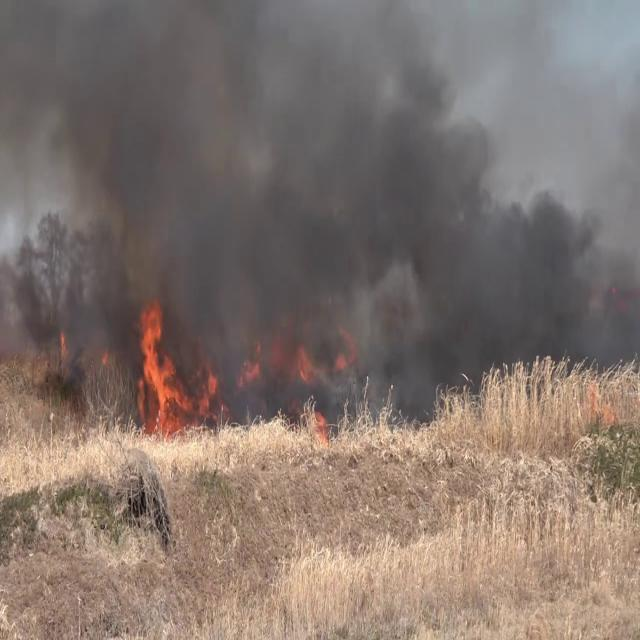Fire: (133, 298, 194, 433)
Smoke: (0, 1, 640, 420)
